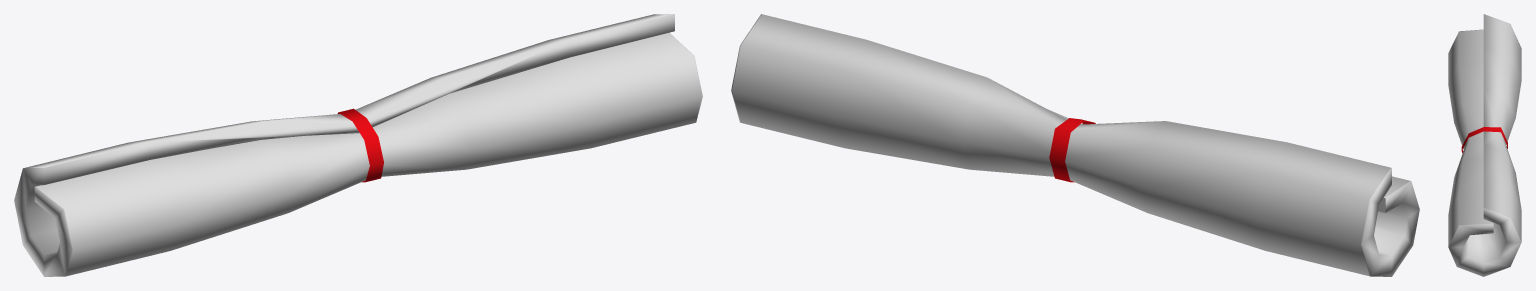
Rendered from newspaper.fbx.
3 renders of one model, left to right at view 1: azimuth 30°, elevation 25°; view 2: azimuth 150°, elevation 25°; view 3: azimuth 270°, elevation 25°, orthographic. The views are drawn at different scales.
Parts seen in each view (by area): view 1: Newspaper; view 2: Newspaper; view 3: Newspaper.
Boxes of the visible parts, <box> form: Newspaper: <box>14,14,702,276</box>; Newspaper: <box>731,14,1419,276</box>; Newspaper: <box>1448,14,1521,276</box>.
Bounding box in the file's own units: 102 × 16.81 × 16.22.
